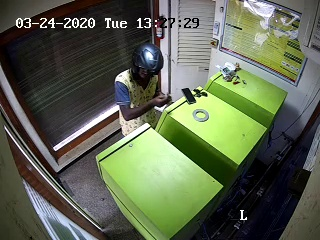helmet: (118, 42, 169, 85)
